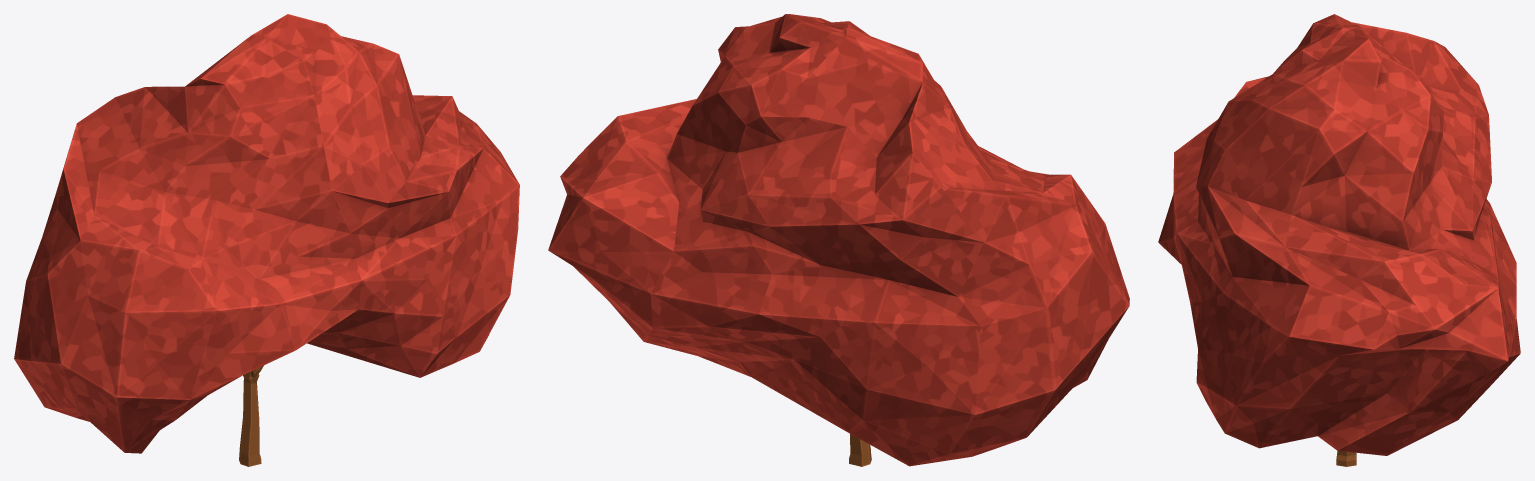
Rendered from MapleTree.obj.
The picture shows the model from 3 angles, left to right: view 1: azimuth 30°, elevation 25°; view 2: azimuth 150°, elevation 25°; view 3: azimuth 270°, elevation 25°; orthographic projection. The views are drawn at different scales.
Visible parts, largest first — view 1: MapleTree_mesh; view 2: MapleTree_mesh; view 3: MapleTree_mesh.
Boxes of the visible parts, x1,y1,x2,y2 form: MapleTree_mesh: [14, 14, 519, 466]; MapleTree_mesh: [548, 14, 1129, 466]; MapleTree_mesh: [1158, 14, 1520, 466].
Bounding box in the file's own units: 14.87 × 12.41 × 9.1.
Materials: 1 (1 with a texture image).
